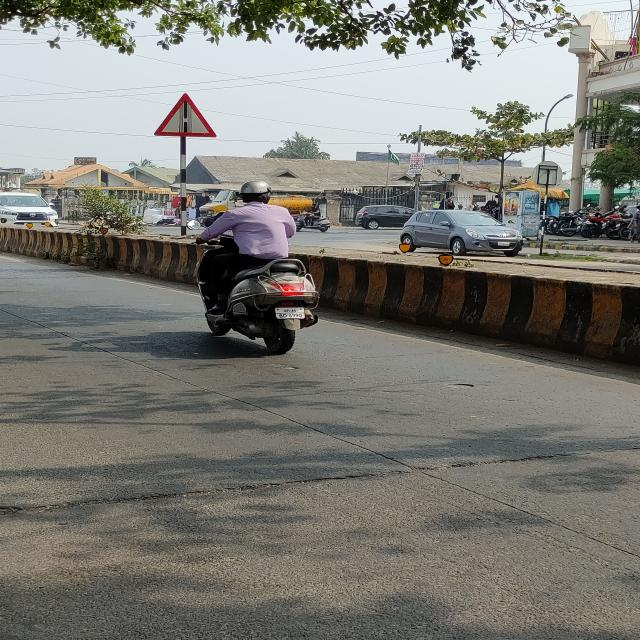ferry: (153, 93, 218, 137)
